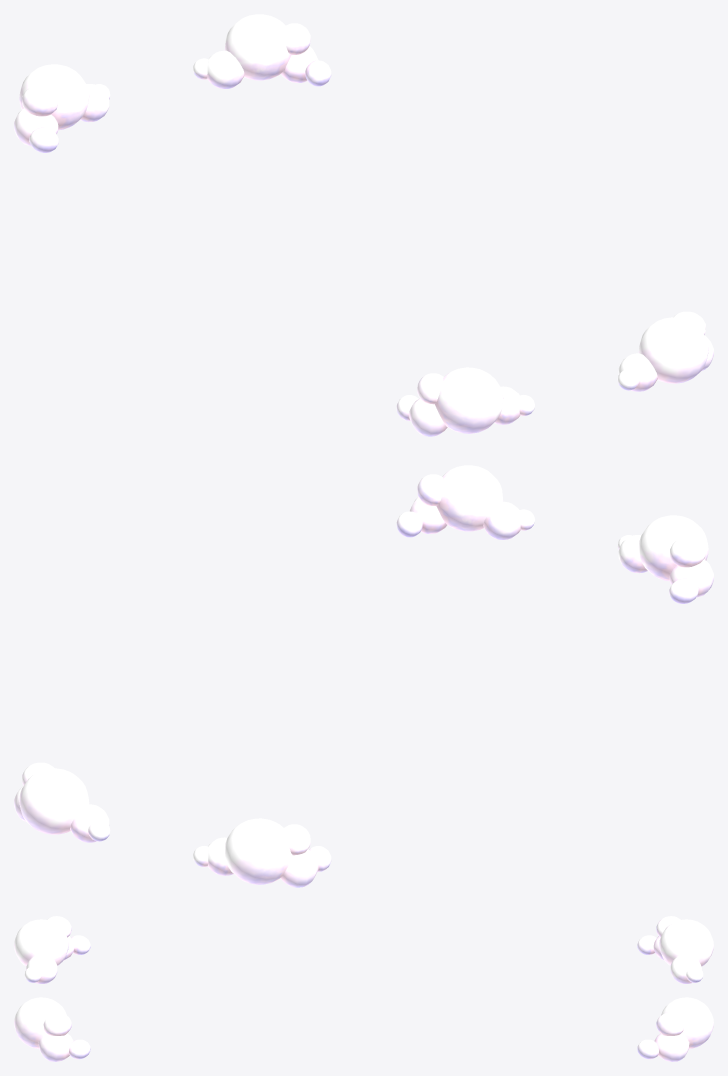
The model's file is cloudVerticalElevator.glb.
3 views of the same model, one above another, from view 1: azimuth 30°, elevation 25°; view 2: azimuth 150°, elevation 25°; view 3: azimuth 270°, elevation 25° (orthographic). The views are drawn at different scales.
Visible parts, largest first — view 1: CloudB.003; view 2: CloudB.003; view 3: CloudB.003.
Boxes of the visible parts, x1,y1,x2,y2 form: CloudB.003: (14,14,713,436); CloudB.003: (14,465,713,887); CloudB.003: (14,916,713,1061).
Size of what is drawn, in the model's own units: 24.37 by 4.93 by 63.65.
1 material, 1 textured.
